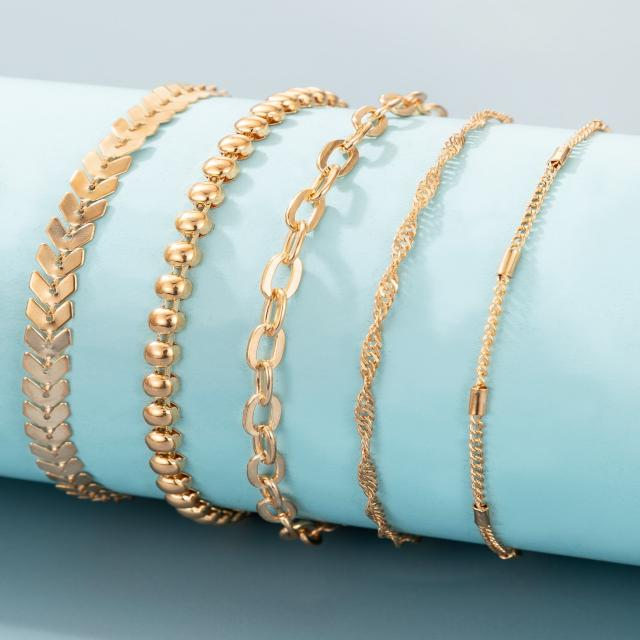bracelet: (14, 43, 640, 598)
